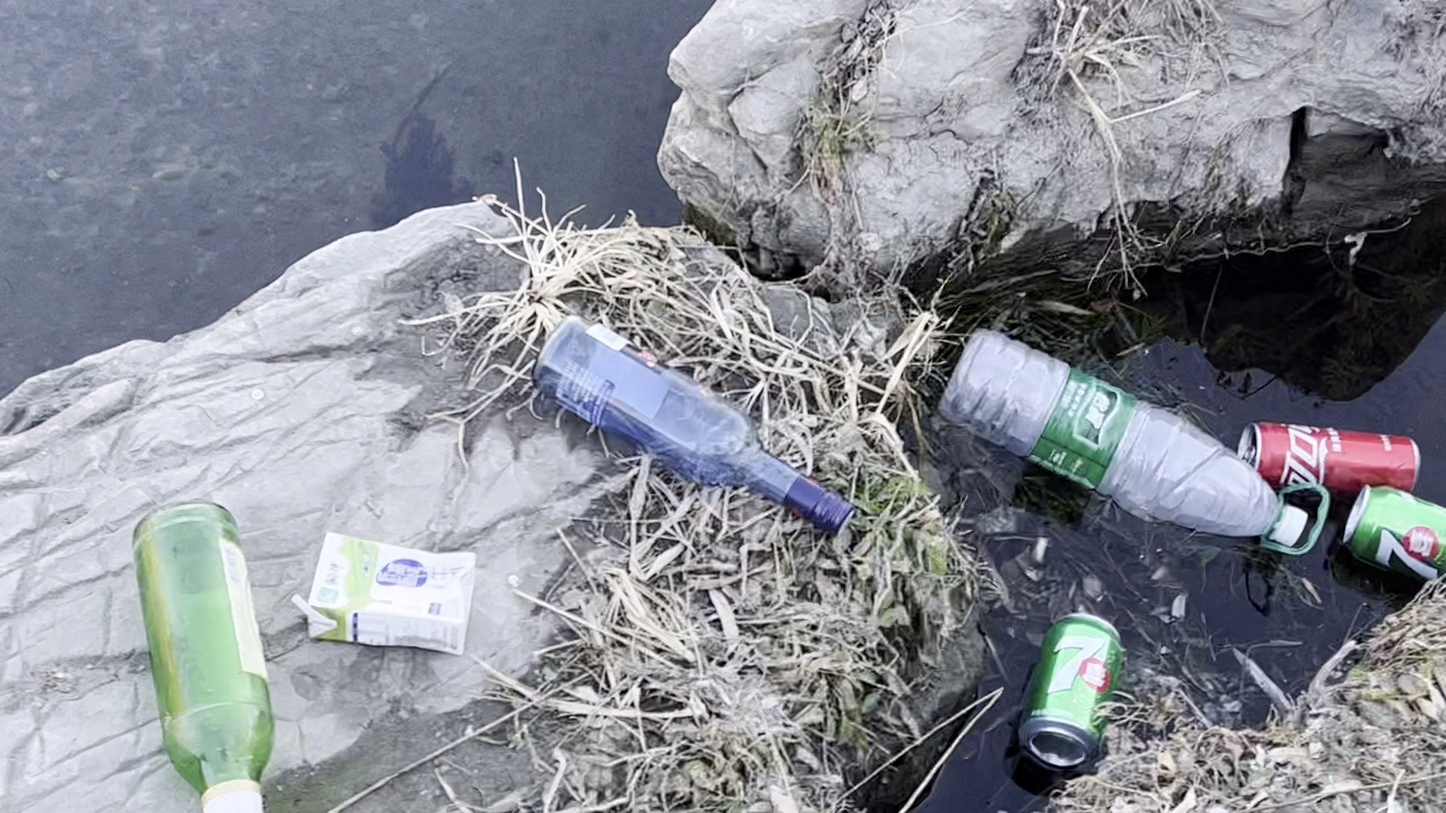floater: (949, 325, 1325, 560), (531, 318, 864, 550), (127, 498, 273, 808), (308, 525, 480, 648), (1023, 609, 1118, 769), (1253, 413, 1412, 477), (1356, 485, 1446, 562)
